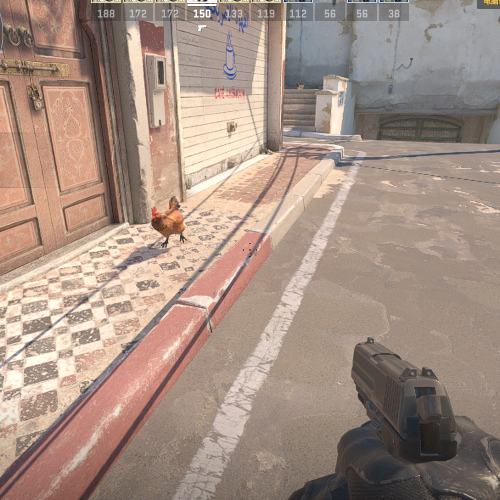chicken: (150, 196, 188, 249)
